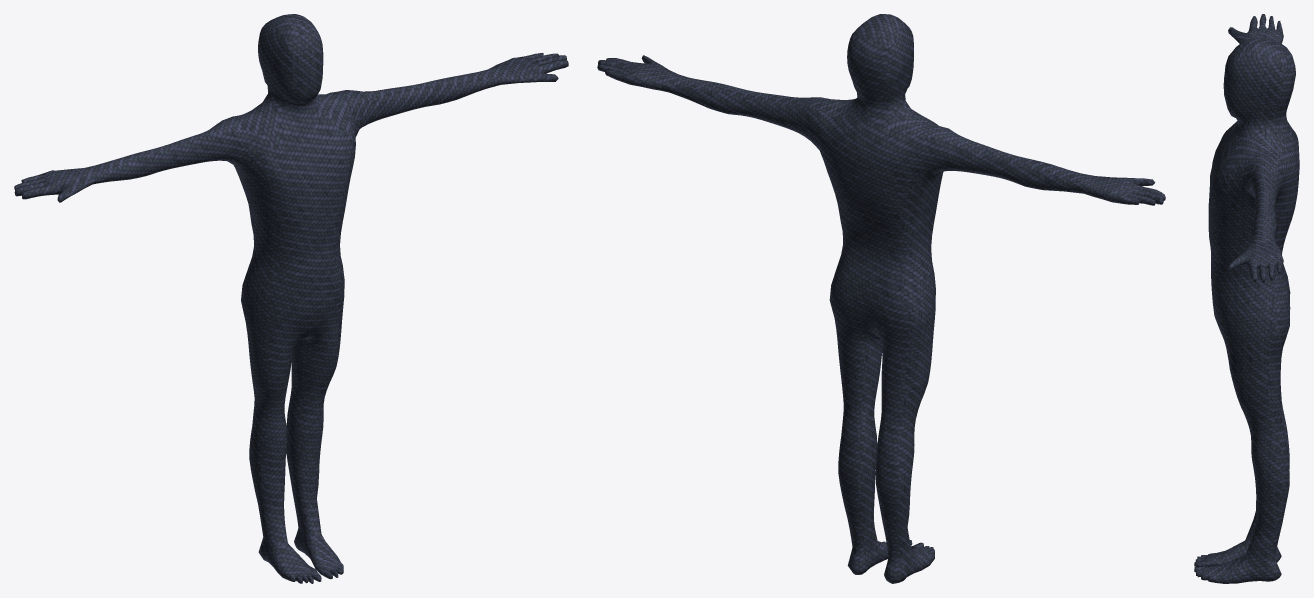
The model's file is Knitman.fbx.
3 views of the same model, side by side, from view 1: azimuth 30°, elevation 25°; view 2: azimuth 150°, elevation 25°; view 3: azimuth 270°, elevation 25° (orthographic). The views are drawn at different scales.
Visible parts, largest first — view 1: DENIMS YOUR CHALKMAN_Baked; view 2: DENIMS YOUR CHALKMAN_Baked; view 3: DENIMS YOUR CHALKMAN_Baked.
Boxes of the visible parts, box(x1,y1,x2,y2) form: DENIMS YOUR CHALKMAN_Baked: box(14, 14, 568, 583); DENIMS YOUR CHALKMAN_Baked: box(597, 14, 1165, 583); DENIMS YOUR CHALKMAN_Baked: box(1194, 14, 1299, 583).
Bounding box in the file's own units: 191 × 179 × 32.3.
Materials: 1 (1 with a texture image).
